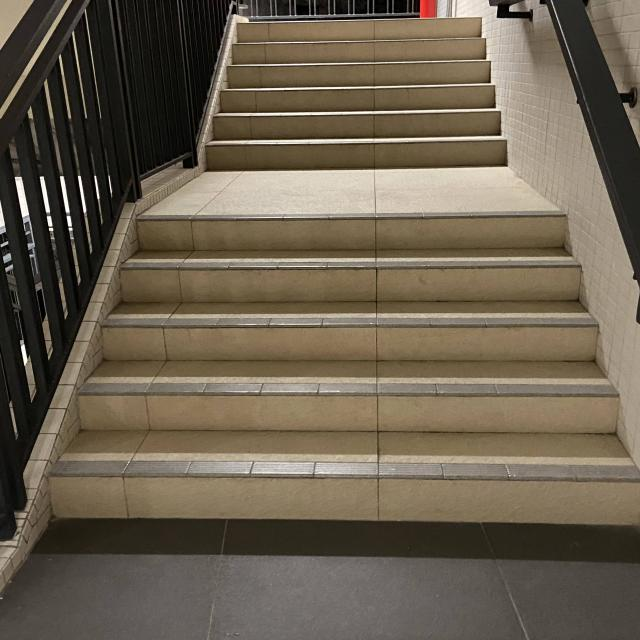Stairs: (62, 193, 640, 559), (198, 12, 522, 174)
